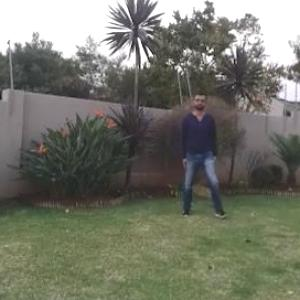follow: (178, 82, 216, 212)
